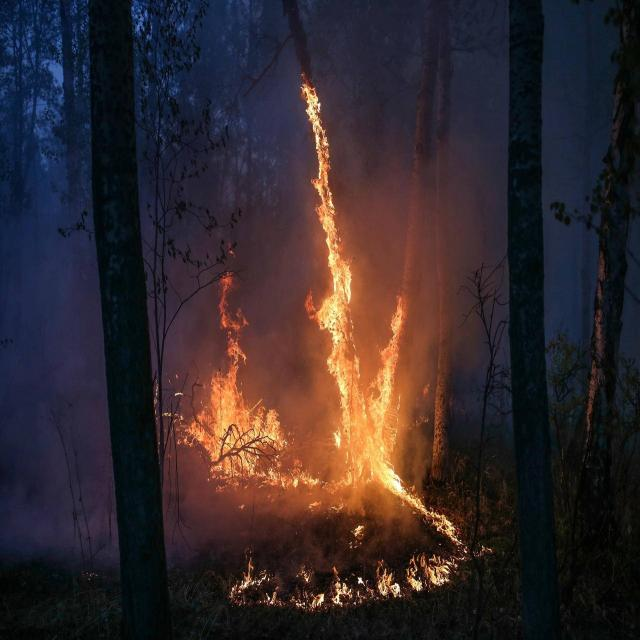fire: (297, 63, 452, 532), (185, 239, 302, 494), (228, 532, 494, 620)
